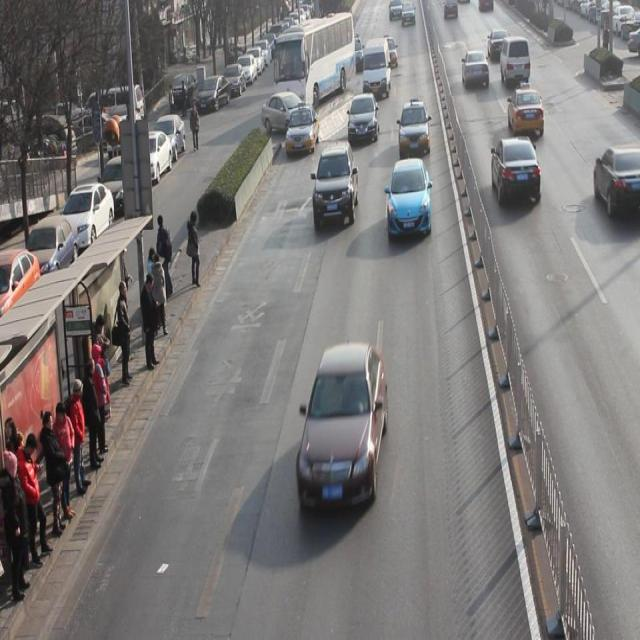car: (297, 340, 387, 511), (313, 139, 358, 232), (490, 135, 542, 204), (388, 159, 431, 240), (595, 144, 640, 220), (261, 91, 312, 137), (508, 86, 546, 138), (399, 100, 431, 158), (286, 106, 320, 156), (348, 94, 380, 147), (462, 48, 490, 89), (487, 27, 512, 65)
truck: (362, 36, 392, 98), (500, 36, 531, 88)
van: (274, 14, 357, 116)
